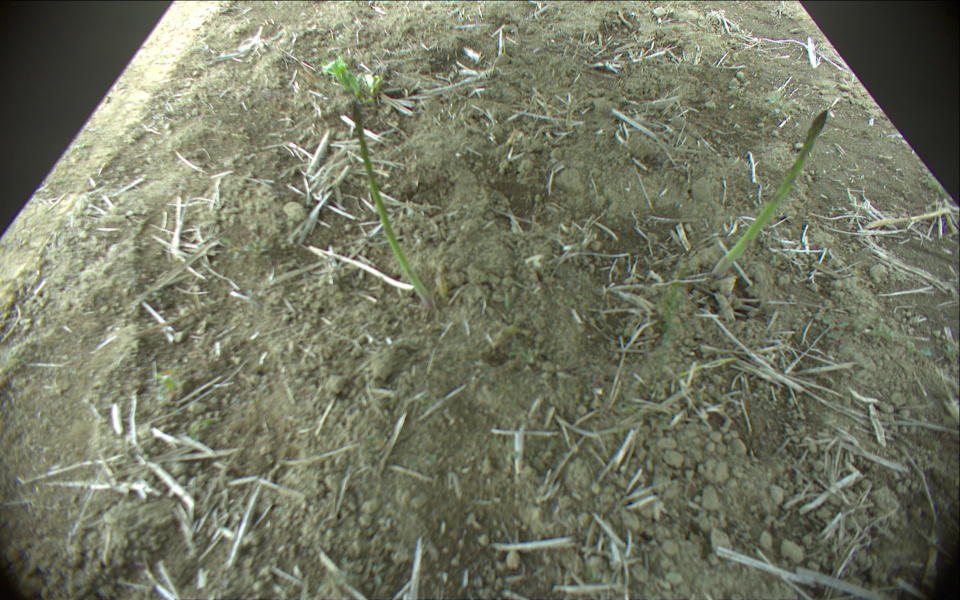aspa: (710, 111, 829, 277), (350, 98, 436, 313)
